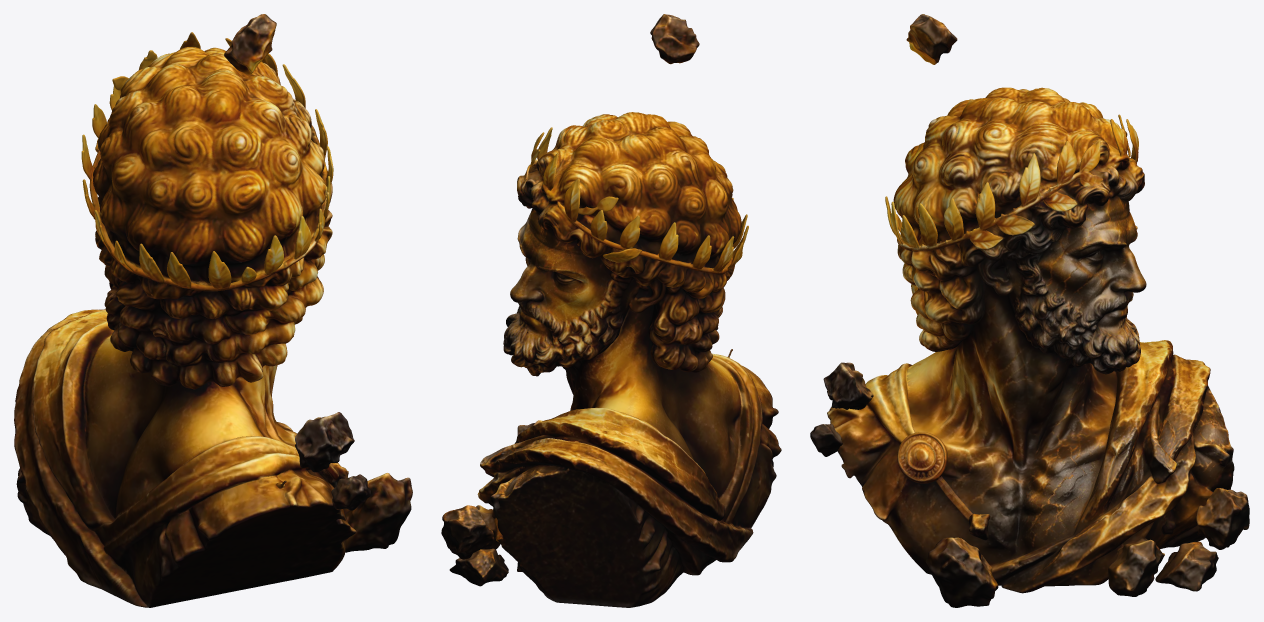
File: statue.glb
3 renders of one model, left to right at view 1: azimuth 30°, elevation 25°; view 2: azimuth 150°, elevation 25°; view 3: azimuth 270°, elevation 25°, orthographic. The views are drawn at different scales.
Parts seen in each view (by area): view 1: node_5eb79838-c154-488b-8c5c-6d29d22a4258; view 2: node_5eb79838-c154-488b-8c5c-6d29d22a4258; view 3: node_5eb79838-c154-488b-8c5c-6d29d22a4258.
Part boxes in pixels (<box>): node_5eb79838-c154-488b-8c5c-6d29d22a4258: <box>14,14,412,607</box>; node_5eb79838-c154-488b-8c5c-6d29d22a4258: <box>441,14,781,607</box>; node_5eb79838-c154-488b-8c5c-6d29d22a4258: <box>810,14,1249,607</box>.
Size of the model in its own units: 0.5485 by 1 by 0.7573.
Materials: 1 (1 with a texture image).
